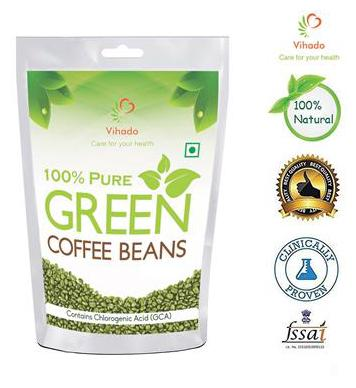fssai: (281, 322, 328, 344)
